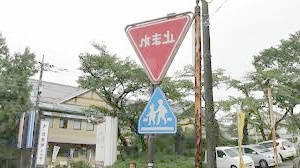Regulatory_sign_triangle: (120, 11, 193, 85)
